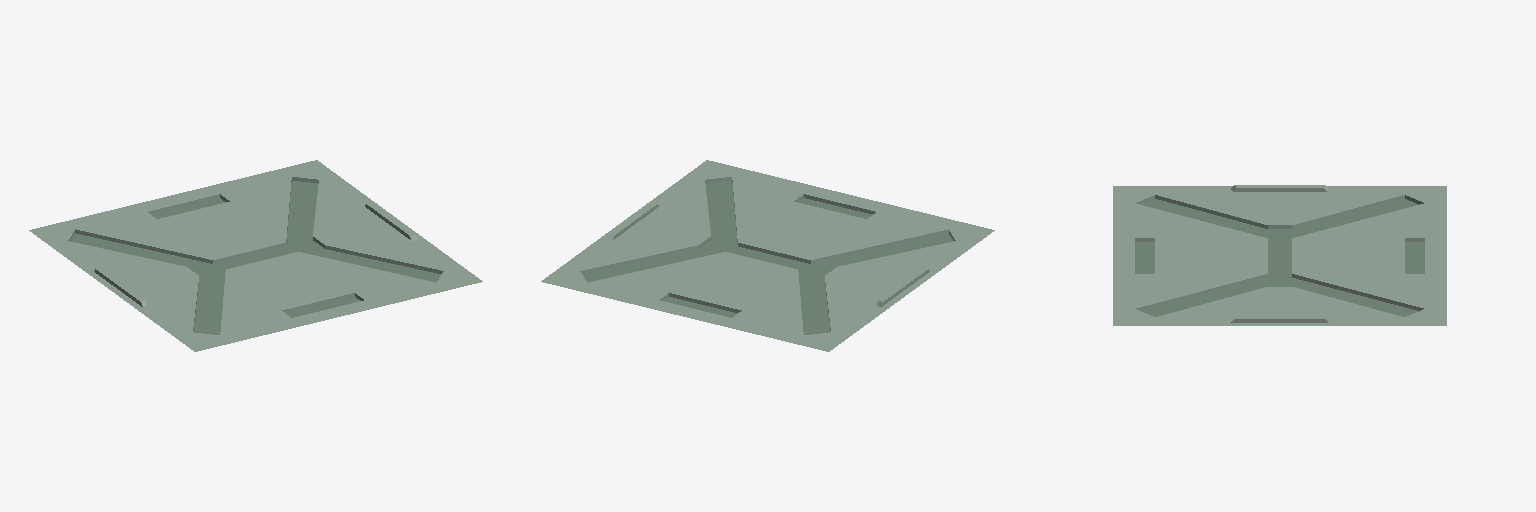
3 views of the same model, side by side, from view 1: azimuth 30°, elevation 25°; view 2: azimuth 150°, elevation 25°; view 3: azimuth 270°, elevation 25° (orthographic).
Visible parts, largest first — view 1: Plane; view 2: Plane; view 3: Plane.
Boxes of the visible parts, x1=… form: Plane: x1=29, y1=160, x2=482, y2=351; Plane: x1=541, y1=160, x2=994, y2=351; Plane: x1=1113, y1=185, x2=1446, y2=325.
Size of the model in its own units: 2 by 0.0513 by 2.
1 materials, 1 textured.